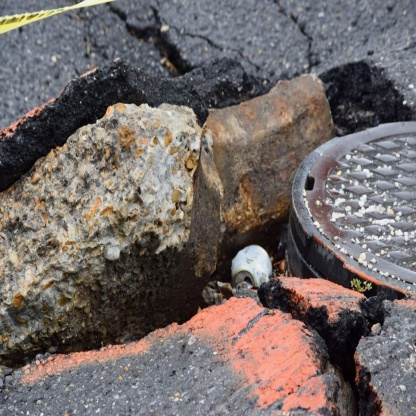pothole: (2, 38, 413, 416)
